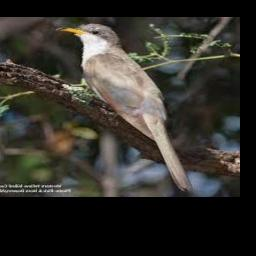Cuckoo: (56, 24, 193, 191)
